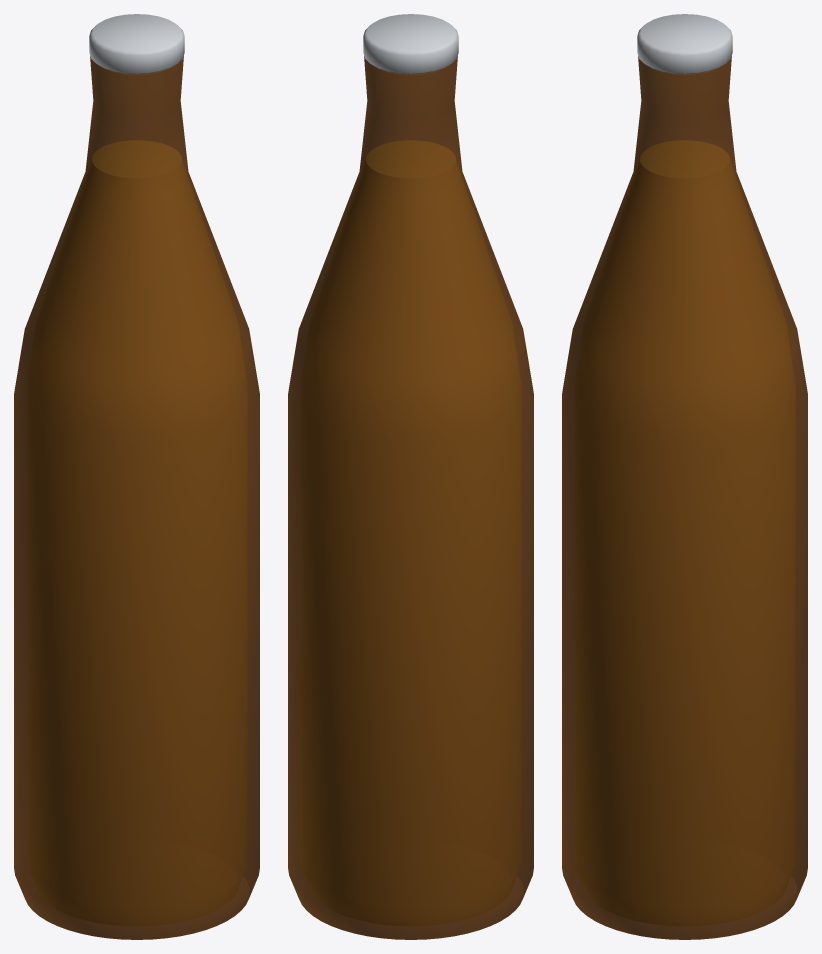
File: cerveja600-vidro_ambar.glb
The picture shows the model from 3 angles, left to right: view 1: azimuth 30°, elevation 25°; view 2: azimuth 150°, elevation 25°; view 3: azimuth 270°, elevation 25°; orthographic projection.
Parts seen in each view (by area): view 1: cerveja600-vidro_ambar; view 2: cerveja600-vidro_ambar; view 3: cerveja600-vidro_ambar.
Boxes of the visible parts, x1=… form: cerveja600-vidro_ambar: x1=14, y1=14, x2=259, y2=939; cerveja600-vidro_ambar: x1=288, y1=14, x2=533, y2=939; cerveja600-vidro_ambar: x1=562, y1=14, x2=807, y2=939.
Size of the model in its own units: 0.076 by 0.2932 by 0.076.
